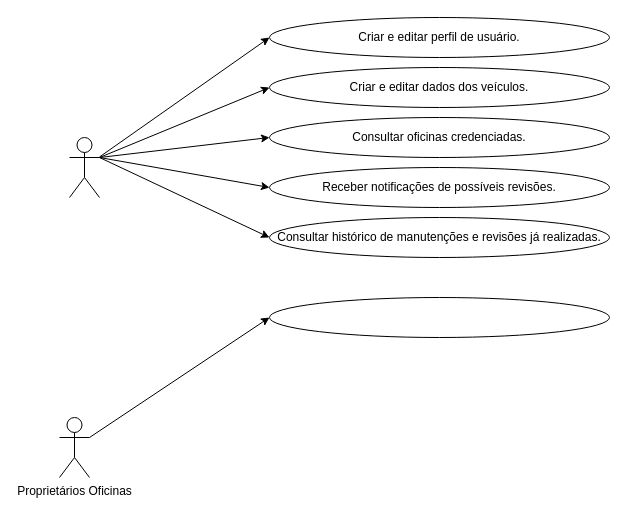
The diagram is 627 pixels wide and 516 high, and some of its shapes have lost their labels. The shapes that lost their labels are listed below. From the top down, each one's box as (x1, y1, x2, y2) in pixels, then its label:
(68, 136, 100, 198): Usuários/ Proprietários
(268, 296, 610, 338): Criar e editar perfil de proprietário de oficina.
